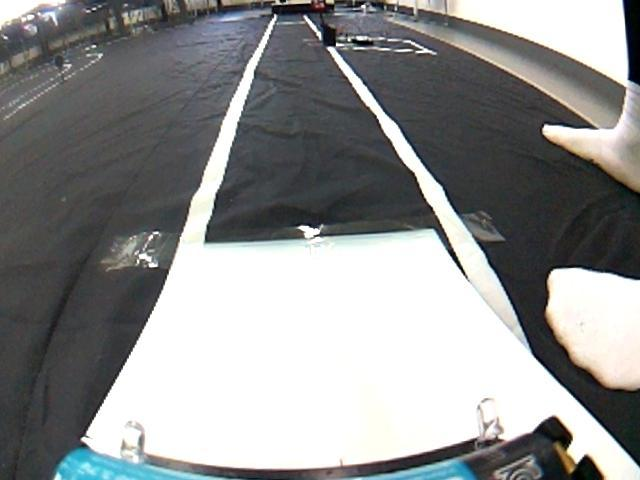hill_down: (0, 127, 640, 480)
sign_stop: (309, 0, 329, 11)
